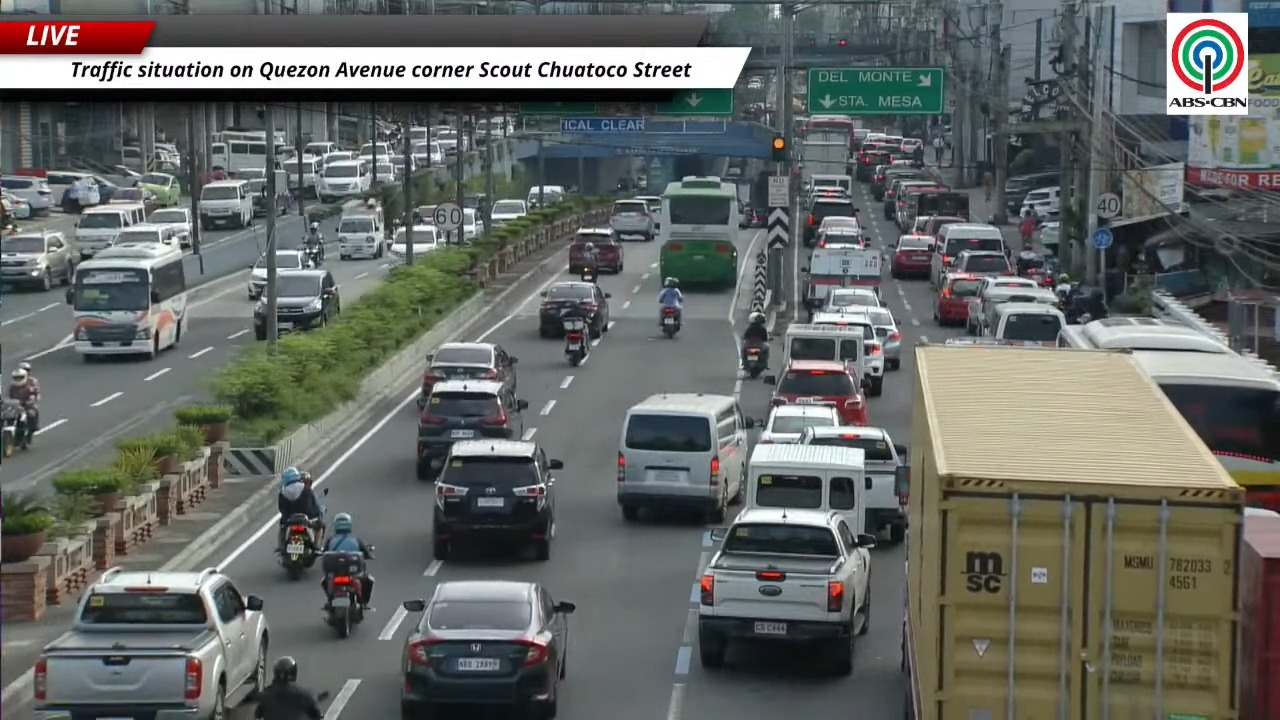bus: (1059, 317, 1279, 509), (66, 242, 187, 360), (659, 176, 740, 288), (210, 130, 290, 172), (801, 116, 856, 148)
car: (401, 580, 575, 719), (432, 438, 562, 560), (798, 427, 908, 542), (417, 380, 527, 479), (811, 305, 885, 396), (765, 360, 868, 425), (418, 342, 517, 407), (0, 230, 77, 290), (276, 268, 340, 334), (539, 281, 610, 338), (757, 403, 840, 443), (891, 179, 946, 232), (803, 196, 858, 246), (933, 272, 981, 325), (1005, 169, 1059, 215), (568, 228, 623, 273), (863, 307, 901, 369), (0, 175, 54, 214), (609, 198, 654, 241), (871, 166, 926, 201), (891, 234, 933, 278), (881, 176, 922, 220), (147, 207, 192, 247), (952, 250, 1015, 276), (136, 173, 180, 206), (820, 288, 880, 312), (978, 275, 1039, 298), (108, 187, 160, 213), (1020, 185, 1059, 217), (855, 145, 889, 181), (815, 226, 867, 248), (919, 215, 968, 238), (412, 224, 446, 256), (490, 198, 527, 227), (452, 208, 482, 243), (633, 195, 661, 230), (247, 253, 267, 300), (0, 192, 33, 218), (818, 215, 861, 234), (869, 164, 891, 198), (232, 168, 266, 180), (900, 138, 923, 153)
motorcycle: (322, 552, 364, 638), (279, 514, 323, 580), (280, 513, 318, 580), (0, 400, 29, 457), (562, 318, 589, 366), (743, 343, 765, 378), (660, 307, 680, 338), (304, 243, 323, 267), (580, 266, 596, 283)
truck: (902, 344, 1245, 719), (33, 567, 268, 719), (697, 507, 874, 674), (1239, 509, 1279, 717), (801, 245, 882, 312), (799, 133, 849, 178), (914, 190, 969, 219)
